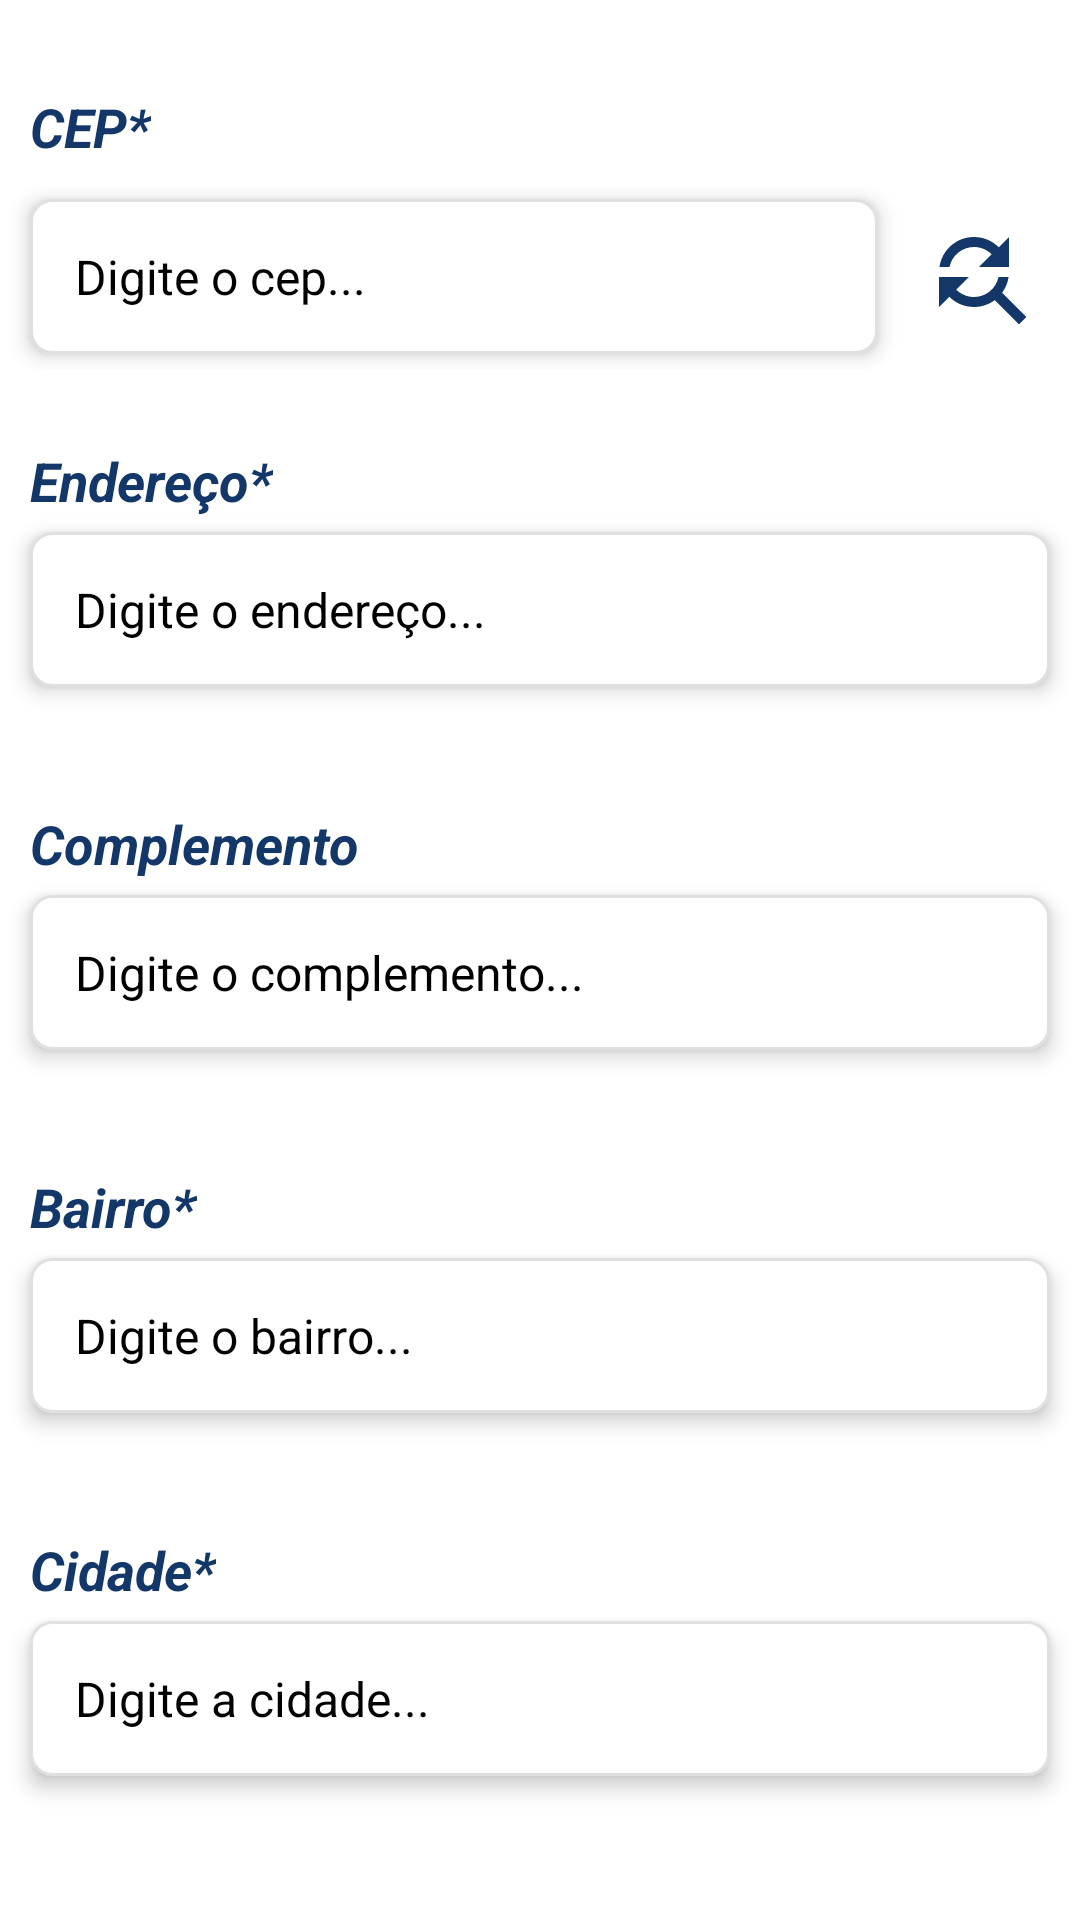

Where icons sit on this 1080x1920 app screen, as (left=x1, top=y1, right=x2, bottom=y2):
consultar cep: (left=939, top=237, right=1026, bottom=324)
